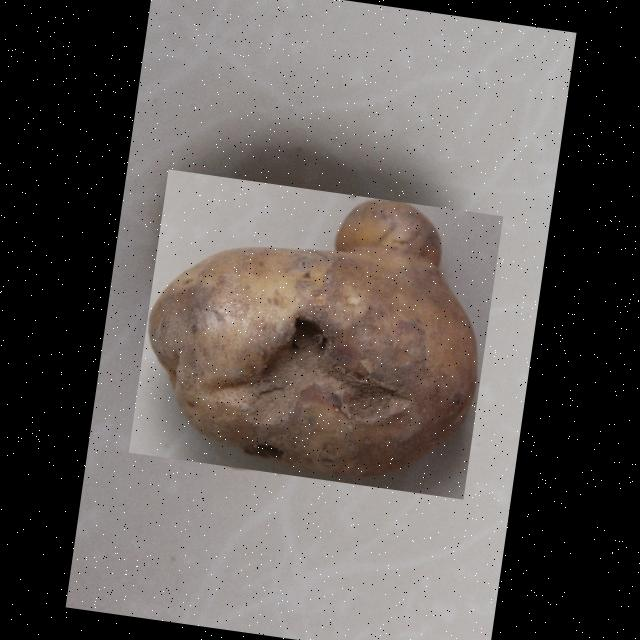Damaged potato: (128, 170, 502, 500)
